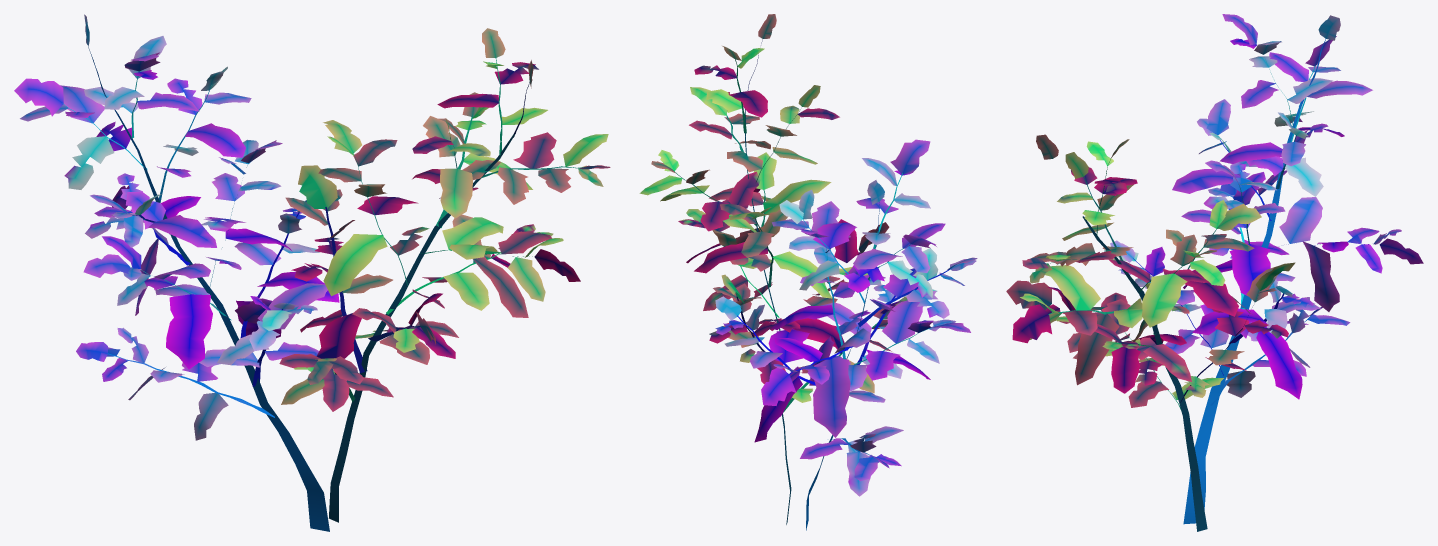
File: Black_Locust_wdvhberja_Mid_wdvhberja_VarB_LOD2.fbx
3 renders of one model, left to right at view 1: azimuth 30°, elevation 25°; view 2: azimuth 150°, elevation 25°; view 3: azimuth 270°, elevation 25°, orthographic. The views are drawn at different scales.
Visible parts, largest first — view 1: _cd35_VarB_LOD3; view 2: _cd35_VarB_LOD3; view 3: _cd35_VarB_LOD3.
Boxes of the visible parts, left/top/right/bottom form: _cd35_VarB_LOD3: left=14, top=14, right=610, bottom=531; _cd35_VarB_LOD3: left=639, top=14, right=977, bottom=530; _cd35_VarB_LOD3: left=1006, top=14, right=1423, bottom=531.
Bounding box in the file's own units: 110 × 120 × 102.
